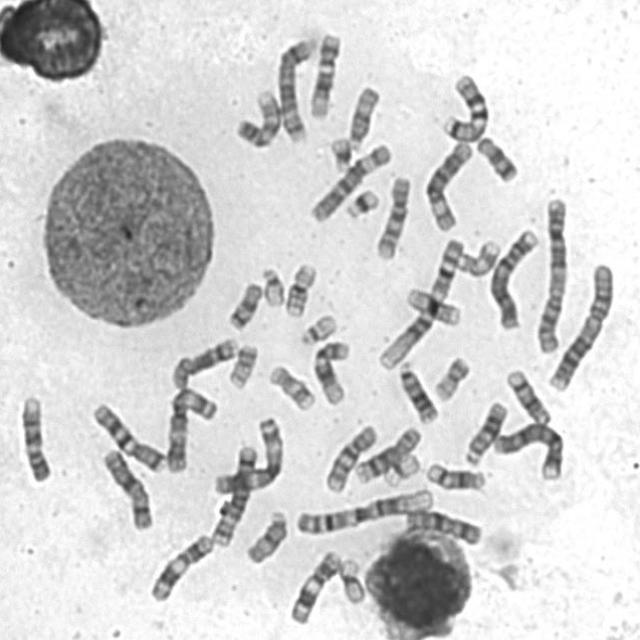A1: (375, 236, 465, 374), (295, 487, 434, 534)
A2: (547, 261, 617, 394), (536, 195, 570, 357)
A3: (214, 414, 286, 497), (168, 385, 217, 475)
B4: (490, 230, 542, 332), (494, 421, 566, 482)
B5: (210, 444, 259, 549), (278, 36, 318, 143)
C10: (323, 424, 382, 496), (376, 175, 414, 262)
C11: (149, 536, 216, 602), (288, 550, 340, 625)
C12: (310, 31, 344, 120), (314, 341, 352, 406)
C6: (308, 143, 393, 224), (424, 141, 474, 233)
C7: (92, 402, 167, 474), (441, 74, 489, 144)
C8: (356, 426, 424, 484), (171, 335, 239, 392)
C9: (20, 393, 54, 486), (235, 89, 280, 150)
D13: (466, 402, 508, 468), (399, 361, 439, 424)
D14: (507, 369, 552, 426), (425, 461, 486, 491)
D15: (245, 507, 292, 565), (348, 84, 382, 150)
E16: (404, 286, 461, 326), (286, 261, 320, 319)
E17: (268, 366, 316, 411), (457, 239, 502, 280)
E18: (476, 136, 520, 183), (225, 282, 262, 330)
F19: (383, 452, 423, 491), (338, 556, 368, 606)
F20: (433, 356, 473, 404), (230, 344, 258, 390)
G21: (344, 186, 380, 220), (332, 138, 352, 174)
G22: (300, 310, 338, 346), (262, 267, 286, 307)
X: (101, 447, 156, 531), (405, 510, 481, 548)
